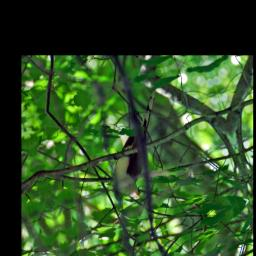Cuckoo: (88, 86, 192, 207)
